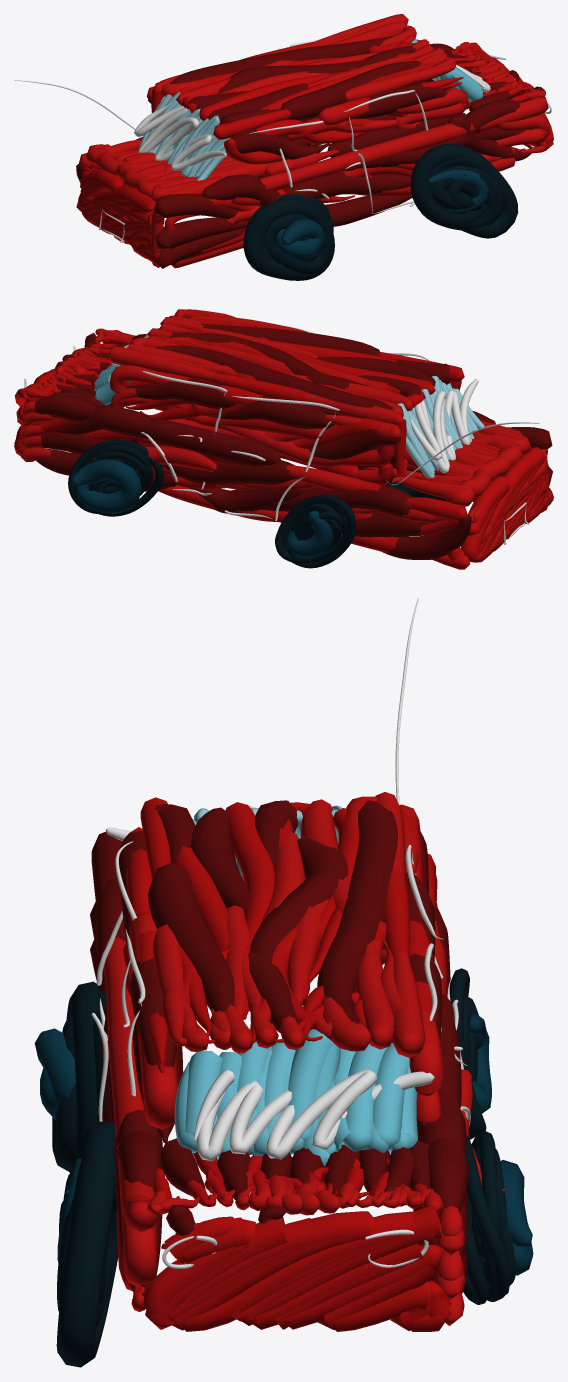
3 views of the same model, one above another, from view 1: azimuth 30°, elevation 25°; view 2: azimuth 150°, elevation 25°; view 3: azimuth 270°, elevation 25° (orthographic). The views are drawn at different scales.
Parts seen in each view (by area): view 1: Untitled_17_Wire_geo (×2); view 2: Untitled_17_Wire_geo (×2); view 3: Untitled_17_Wire_geo (×2).
Boxes of the visible parts, <box> form: Untitled_17_Wire_geo (×2): <box>14,14,553,280</box>; Untitled_17_Wire_geo (×2): <box>14,309,553,569</box>; Untitled_17_Wire_geo (×2): <box>34,598,533,1367</box>.
Bounding box in the file's own units: 1.05 × 0.401 × 0.475.
